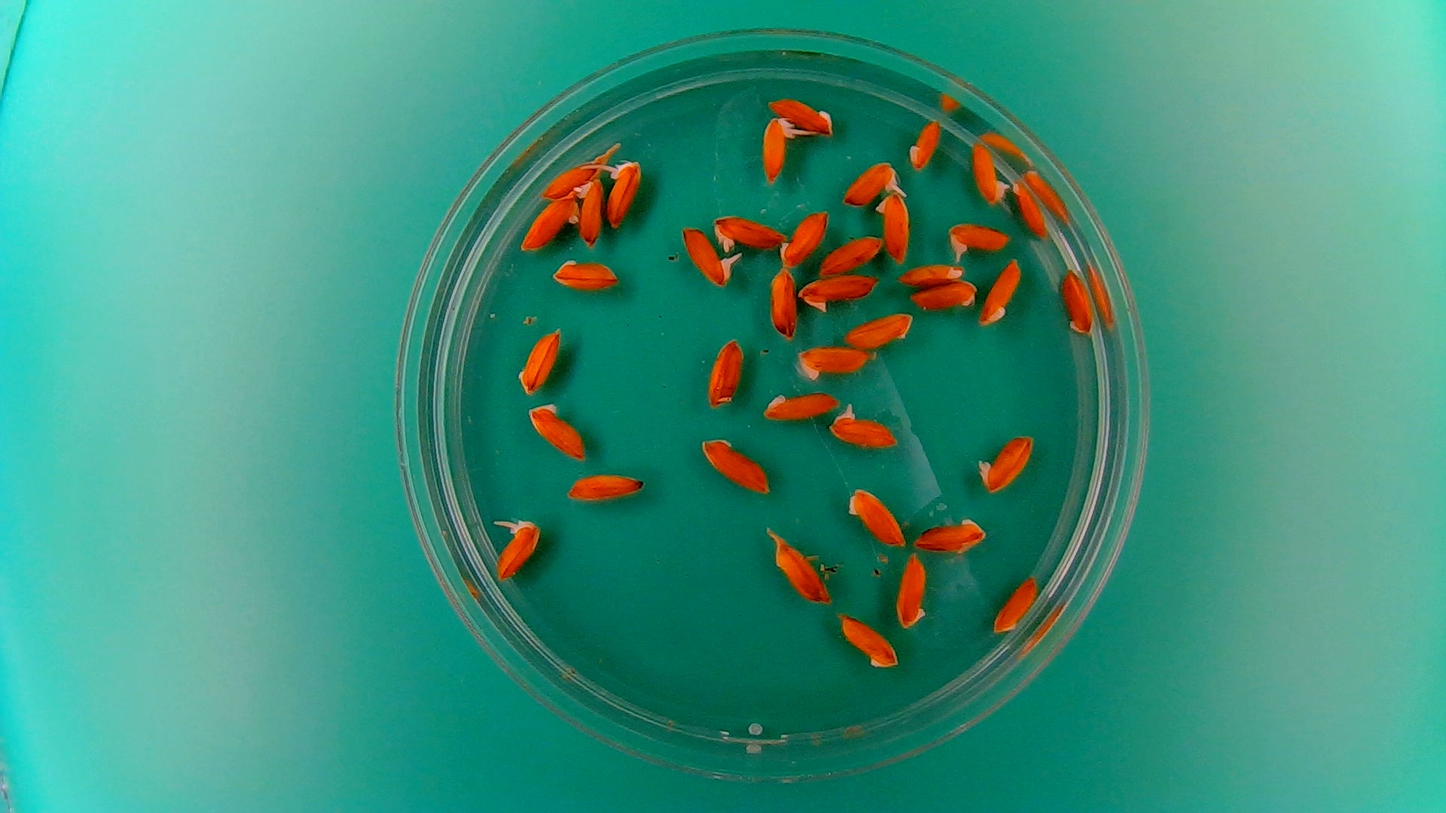no: (510, 394, 595, 467), (766, 528, 833, 607), (699, 434, 772, 497), (845, 483, 908, 549), (975, 429, 1036, 495), (834, 610, 900, 671), (795, 269, 880, 313), (519, 193, 581, 252), (514, 324, 563, 396), (793, 340, 874, 382), (910, 513, 990, 555), (703, 332, 746, 410), (777, 207, 831, 268), (978, 254, 1023, 327), (892, 550, 931, 632), (562, 467, 646, 505), (764, 93, 837, 136), (842, 309, 916, 351), (991, 573, 1040, 636), (1008, 175, 1054, 242), (817, 232, 885, 277), (761, 385, 841, 422), (874, 190, 912, 265), (549, 254, 621, 291), (1058, 267, 1095, 336), (907, 278, 979, 313), (766, 264, 798, 342), (540, 160, 600, 198), (906, 116, 942, 171), (897, 263, 969, 286)
yes: (677, 223, 739, 288), (491, 512, 542, 581), (826, 402, 899, 449), (967, 134, 1013, 206), (602, 155, 644, 229), (839, 157, 902, 206), (709, 211, 786, 250), (758, 112, 799, 184), (944, 219, 1012, 257), (575, 173, 605, 247)
